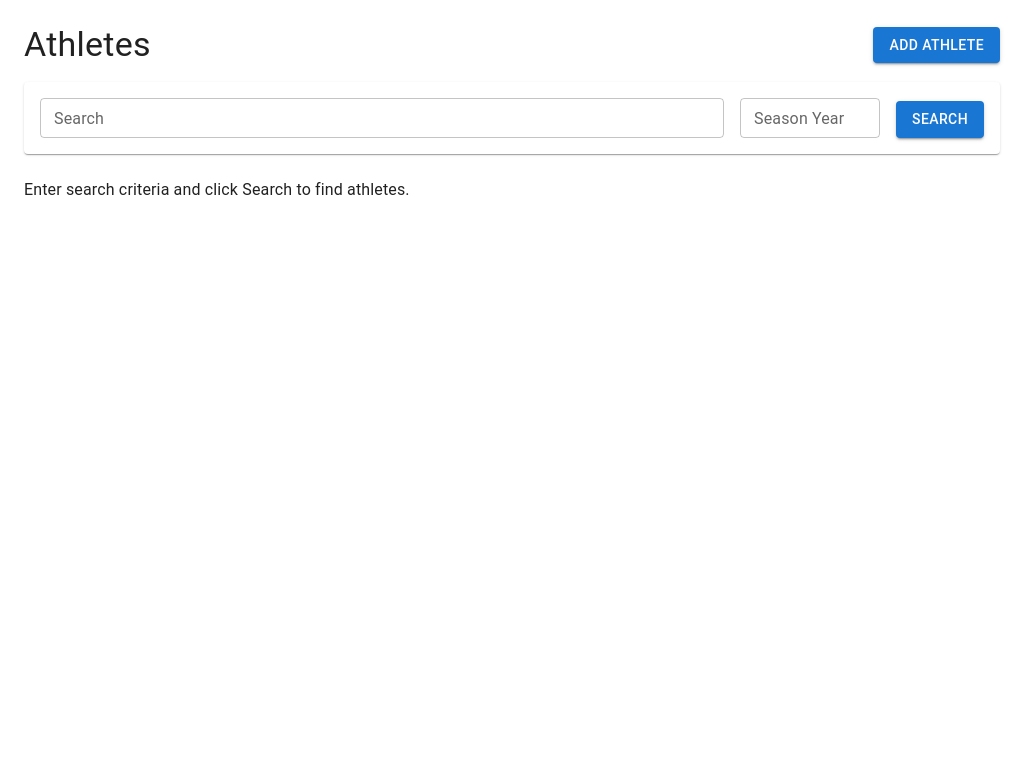
Athletes Page › Add Athlete dialog › should open dialog when Add Athlete is clicked
Click the button "Add Athlete" at {"x": 937, "y": 45}, box [874,27,1000,63]
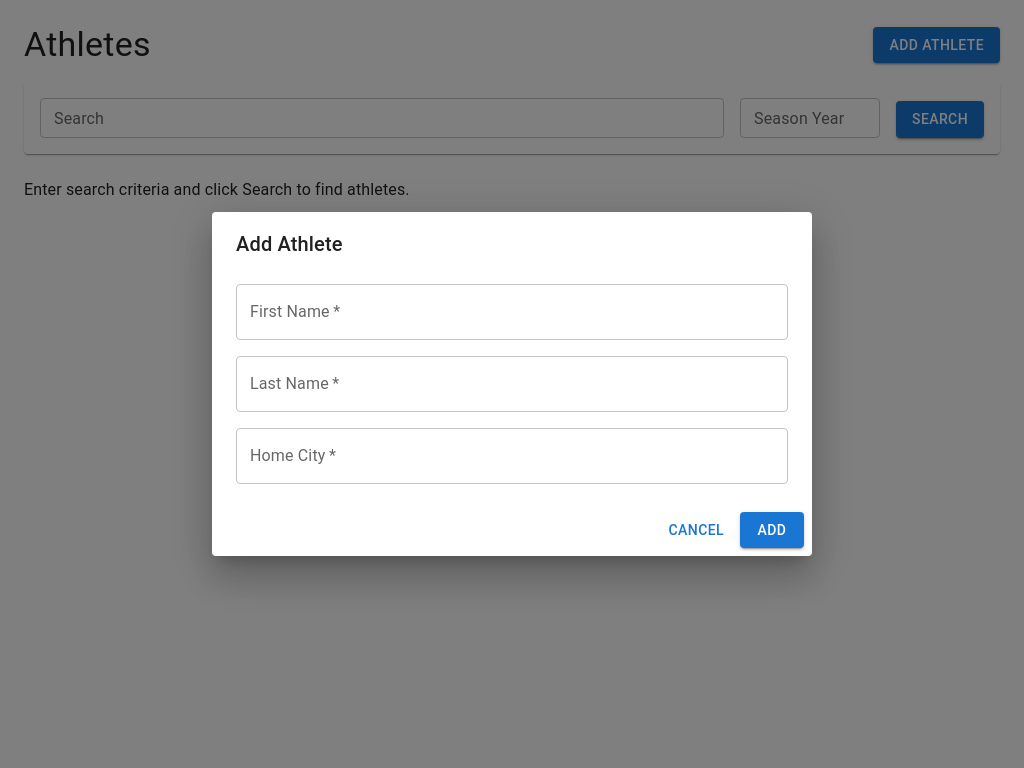
Result: the dialog is shown at [212,212,812,556]
Result: the field labelled "First Name *" is shown at [236,284,788,340]
Result: the field labelled "Last Name *" is shown at [236,356,788,412]
